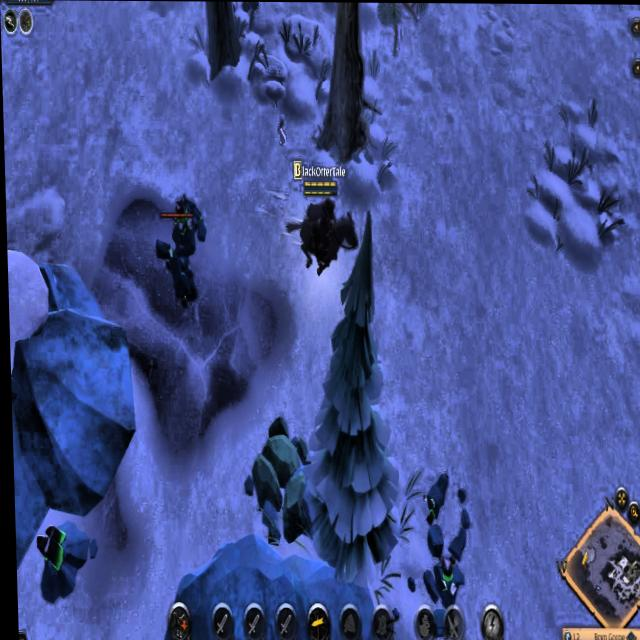sandstone: (246, 411, 310, 540)
tinore: (30, 512, 92, 606)
